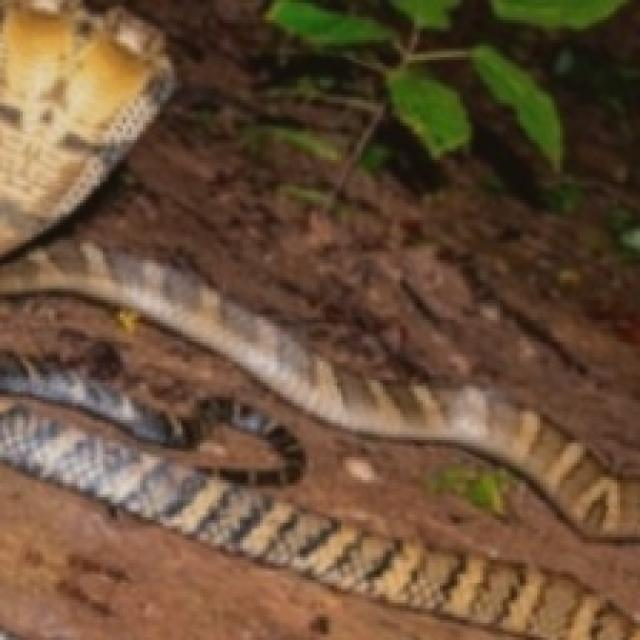king cobra: (0, 0, 637, 637), (3, 471, 269, 637)
